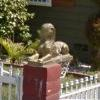Statue: (16, 17, 73, 73)
